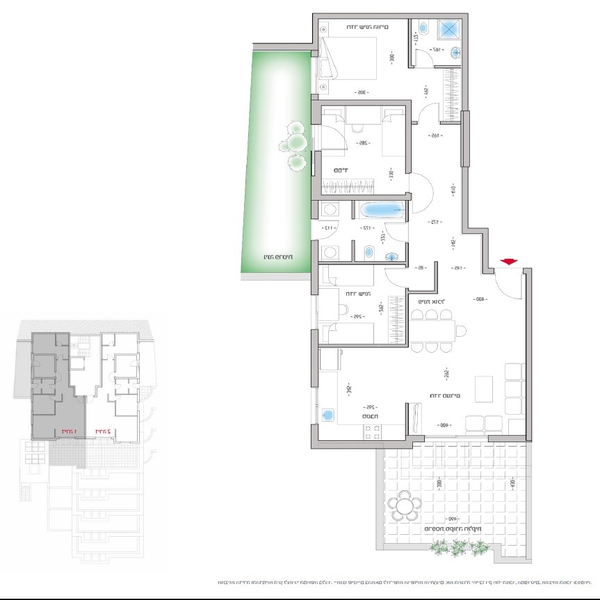door: (492, 266, 523, 302), (315, 125, 350, 156), (378, 217, 413, 244), (312, 214, 342, 242), (385, 265, 410, 291), (414, 100, 440, 124), (413, 47, 436, 72)
room: (406, 285, 535, 442), (313, 94, 415, 202), (307, 346, 410, 452), (404, 121, 469, 270), (311, 14, 412, 108), (311, 257, 410, 351), (311, 194, 413, 270), (405, 9, 470, 127)
wall: (462, 21, 470, 232), (525, 267, 533, 439), (311, 13, 467, 21), (319, 98, 409, 108), (320, 442, 412, 449), (404, 106, 412, 174), (322, 195, 409, 201), (255, 43, 318, 51), (309, 241, 318, 296), (317, 344, 407, 349), (404, 287, 411, 349), (311, 330, 318, 387), (480, 229, 487, 274), (313, 151, 319, 203), (489, 434, 529, 440), (314, 98, 321, 125), (310, 424, 318, 447), (433, 261, 439, 291), (435, 64, 465, 70), (408, 19, 411, 70), (439, 120, 463, 125)
window: (427, 435, 485, 444), (308, 388, 320, 420), (311, 296, 319, 326), (313, 55, 318, 93)
